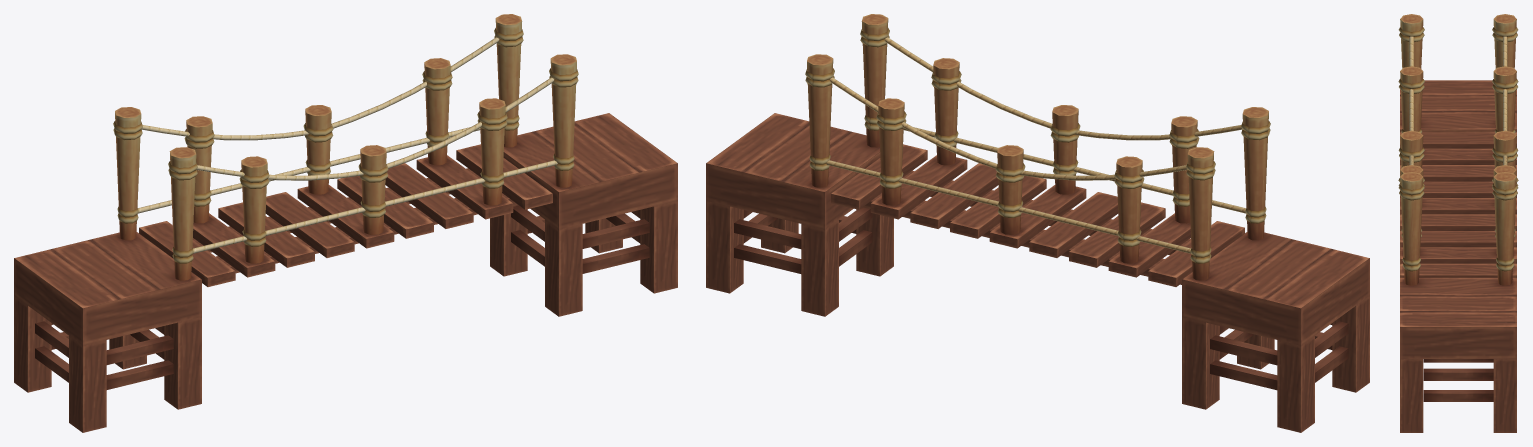
File: Suspension bridge W5.fbx
The picture shows the model from 3 angles, left to right: view 1: azimuth 30°, elevation 25°; view 2: azimuth 150°, elevation 25°; view 3: azimuth 270°, elevation 25°; orthographic projection. The views are drawn at different scales.
Visible parts, largest first — view 1: suspensionBridge_W5; view 2: suspensionBridge_W5; view 3: suspensionBridge_W5.
Boxes of the visible parts, box(x1,y1,x2,y2) form: suspensionBridge_W5: box(14, 14, 677, 432); suspensionBridge_W5: box(706, 14, 1369, 432); suspensionBridge_W5: box(1398, 14, 1518, 432).
Size of the model in its own units: 5 by 2 by 1.03.
